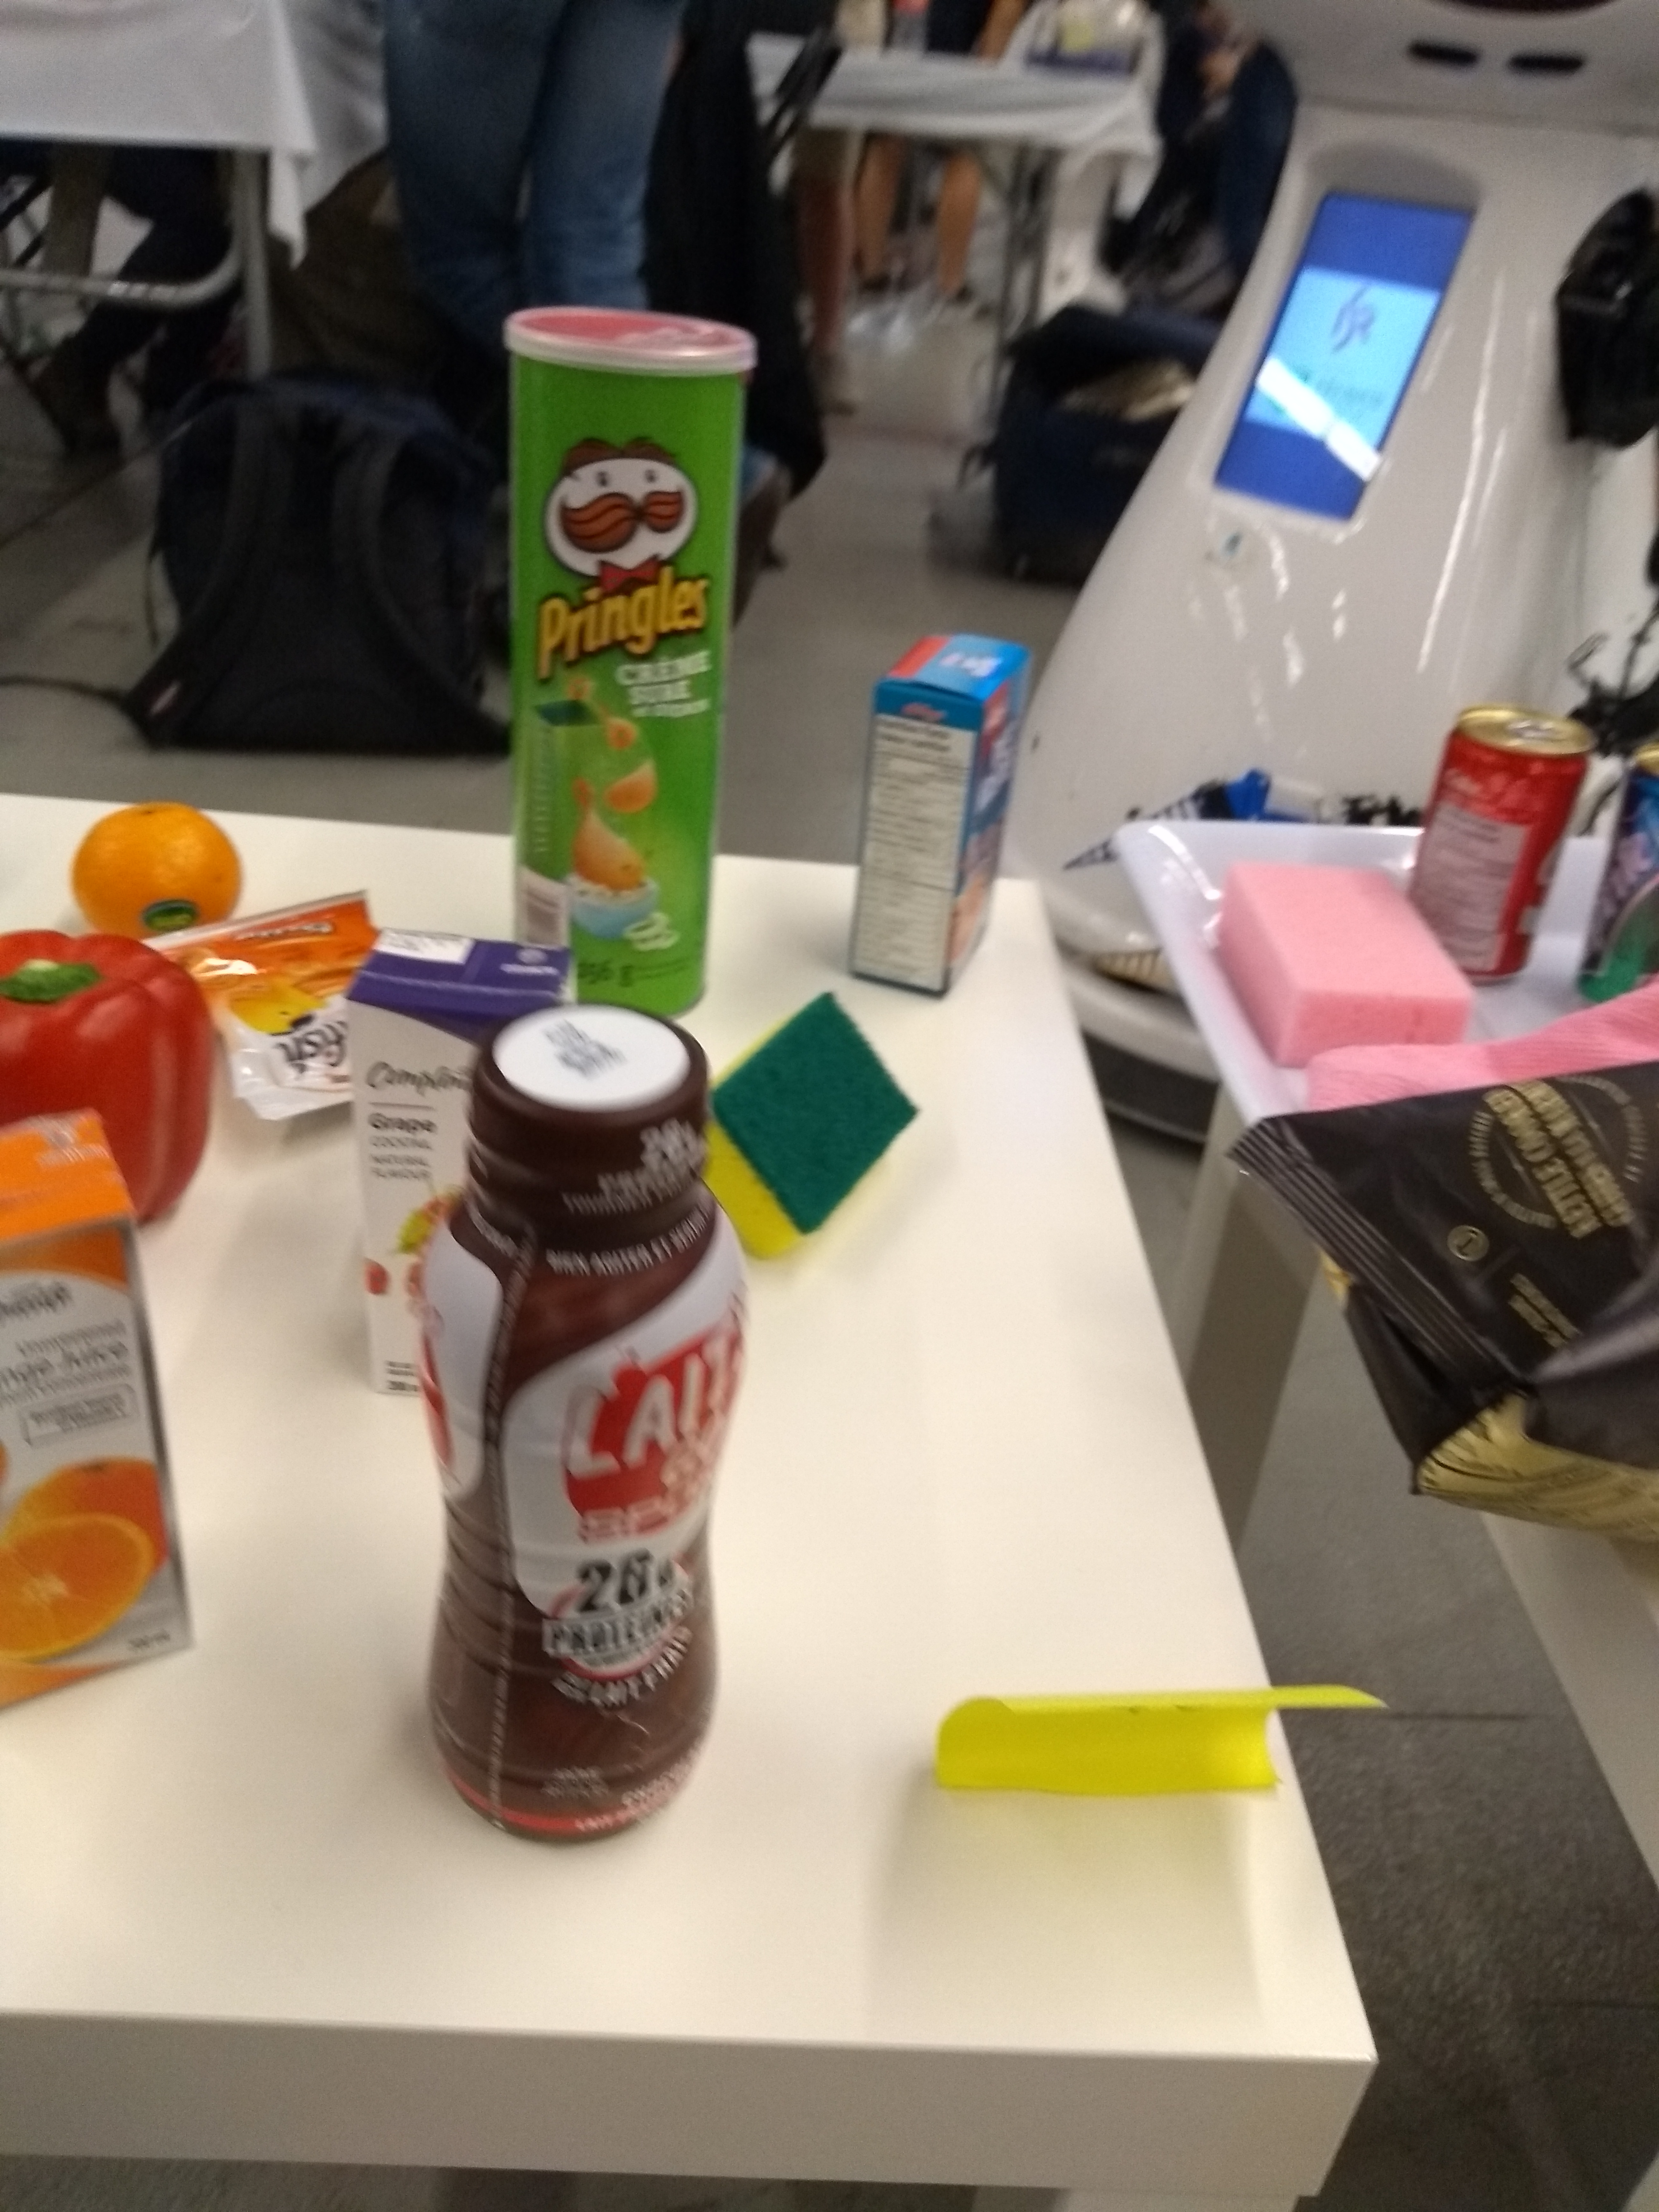cereal: (847, 613, 1028, 1005)
chocolate_drink: (418, 993, 763, 1858)
coke: (1413, 709, 1579, 991)
crackers: (176, 890, 369, 1129)
grape_juice: (355, 925, 570, 1392)
orange: (68, 782, 261, 949)
orange_juice: (0, 1108, 214, 1716)
paprika: (0, 928, 223, 1231)
pringles: (490, 294, 767, 1019)
scrubby: (688, 996, 934, 1273)
sprite: (1584, 723, 1659, 996)
